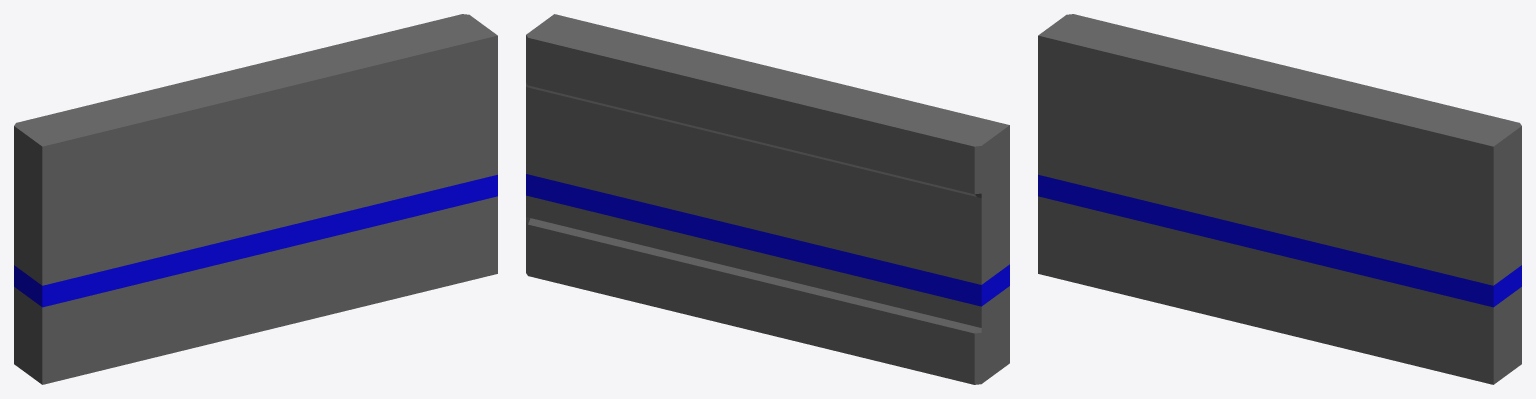
The model's file is mallWall.fbx.
The picture shows the model from 3 angles, left to right: view 1: azimuth 30°, elevation 25°; view 2: azimuth 150°, elevation 25°; view 3: azimuth 330°, elevation 25°; orthographic projection.
Visible parts, largest first — view 1: wall; view 2: wall; view 3: wall.
Part boxes in pixels (bbox=[...]): wall: bbox=[14, 14, 497, 384]; wall: bbox=[526, 14, 1009, 384]; wall: bbox=[1038, 14, 1521, 384].
Bounding box in the file's own units: 1020 × 510 × 120.
